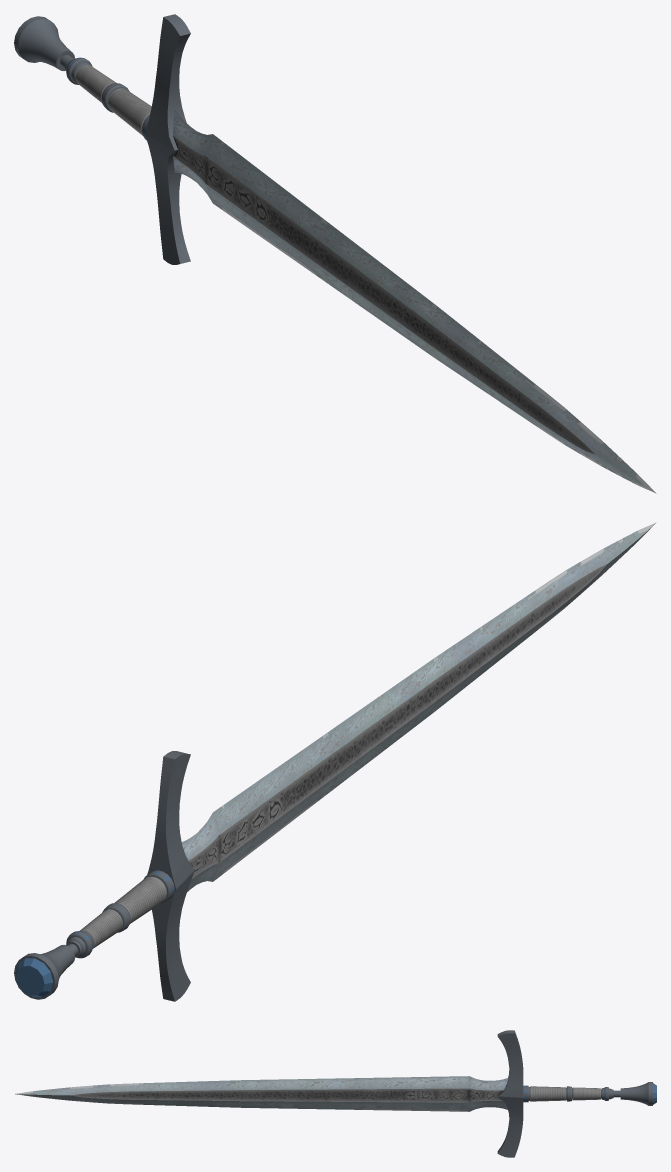
Rendered from sword.fbx.
3 views of the same model, one above another, from view 1: azimuth 30°, elevation 25°; view 2: azimuth 150°, elevation 25°; view 3: azimuth 270°, elevation 25° (orthographic). The views are drawn at different scales.
Parts seen in each view (by area): view 1: sword_lp001; view 2: sword_lp001; view 3: sword_lp001.
Boxes of the visible parts, bbox=[...] form: sword_lp001: bbox=[14, 14, 656, 493]; sword_lp001: bbox=[14, 522, 656, 1001]; sword_lp001: bbox=[15, 1030, 656, 1157].
Bounding box in the file's own units: 4.33 × 24.54 × 115.
